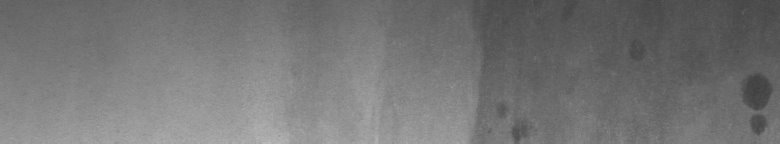fi: (737, 68, 776, 136)
